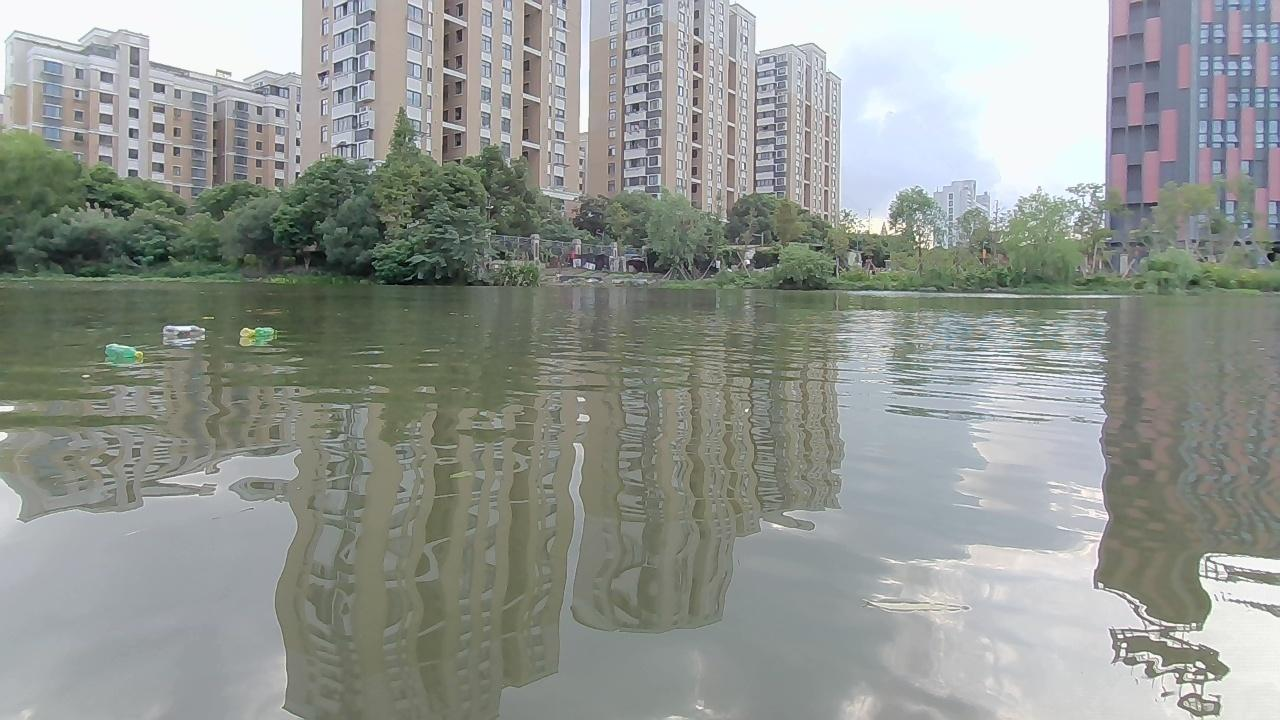bottle: (157, 322, 211, 344), (100, 338, 146, 362), (233, 322, 257, 347), (250, 324, 272, 339)
